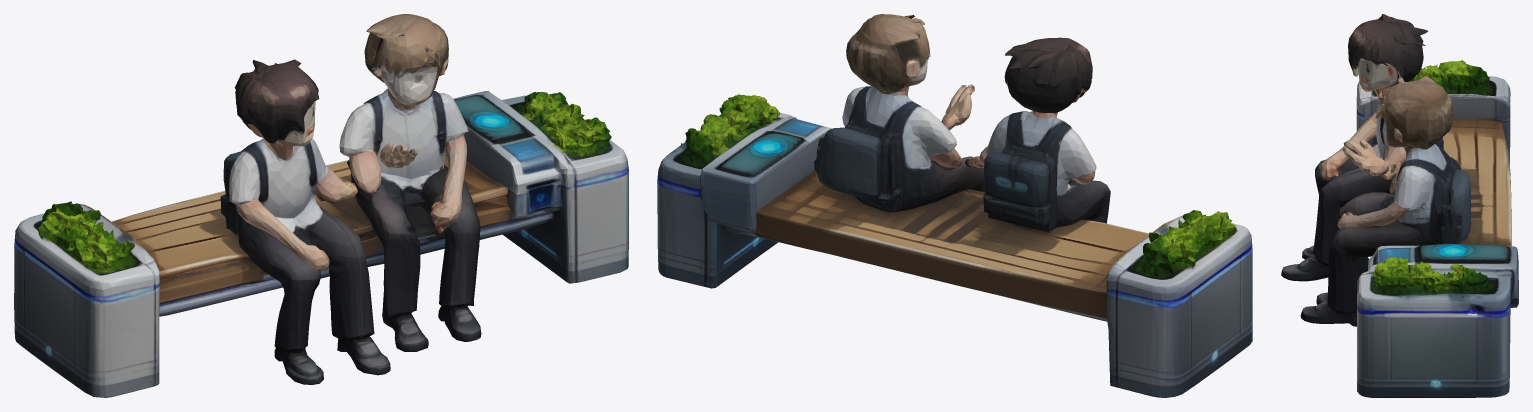
Rendered from school_boys.glb.
3 views of the same model, side by side, from view 1: azimuth 30°, elevation 25°; view 2: azimuth 150°, elevation 25°; view 3: azimuth 270°, elevation 25° (orthographic). The views are drawn at different scales.
Visible parts, largest first — view 1: world; view 2: world; view 3: world.
Part boxes in pixels (bbox=[...]): world: bbox=[14, 14, 628, 397]; world: bbox=[657, 14, 1252, 397]; world: bbox=[1281, 14, 1518, 397].
Size of the model in its own units: 0.9933 by 0.4889 by 0.4407.
1 material, 1 textured.
